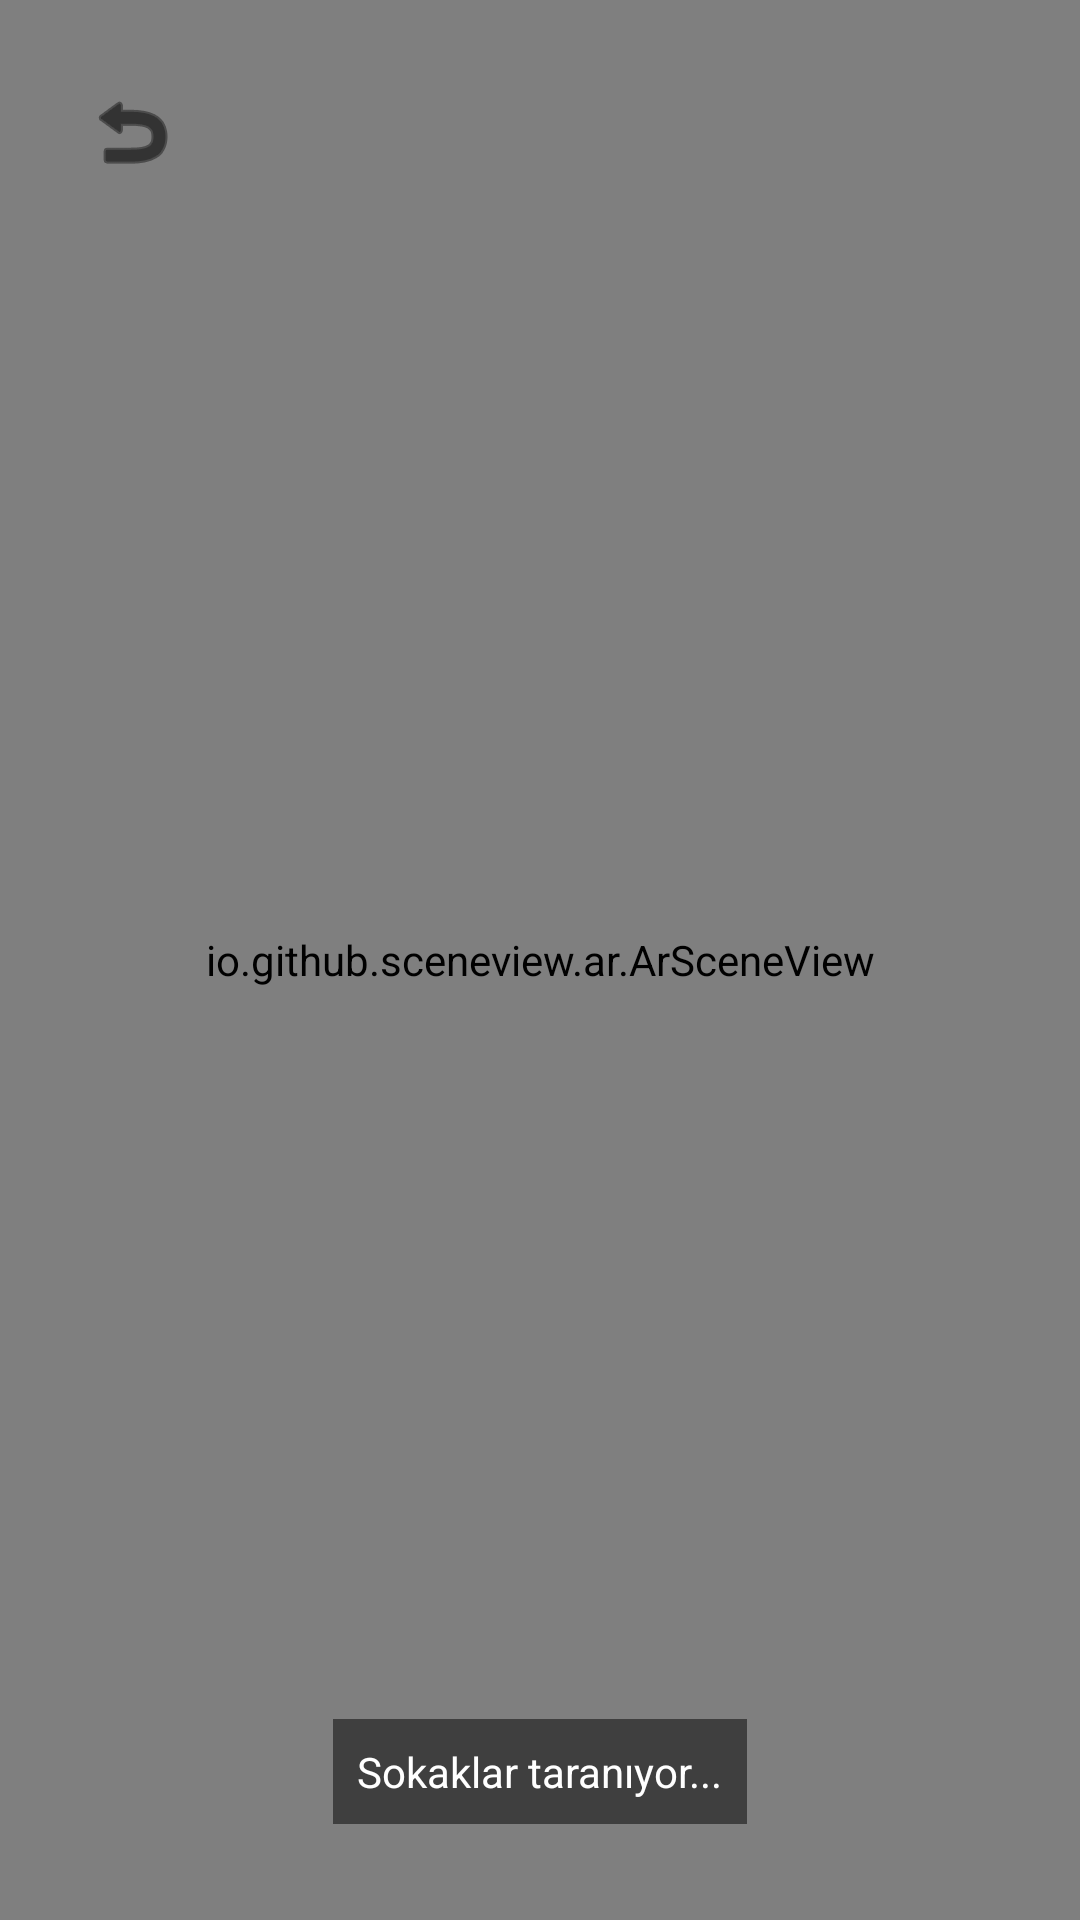

Named icons in this screenshot (1080w x 1920h) and their bounding boxes, (x1, y1, x2, y2):
revert: (99, 102, 168, 164)
